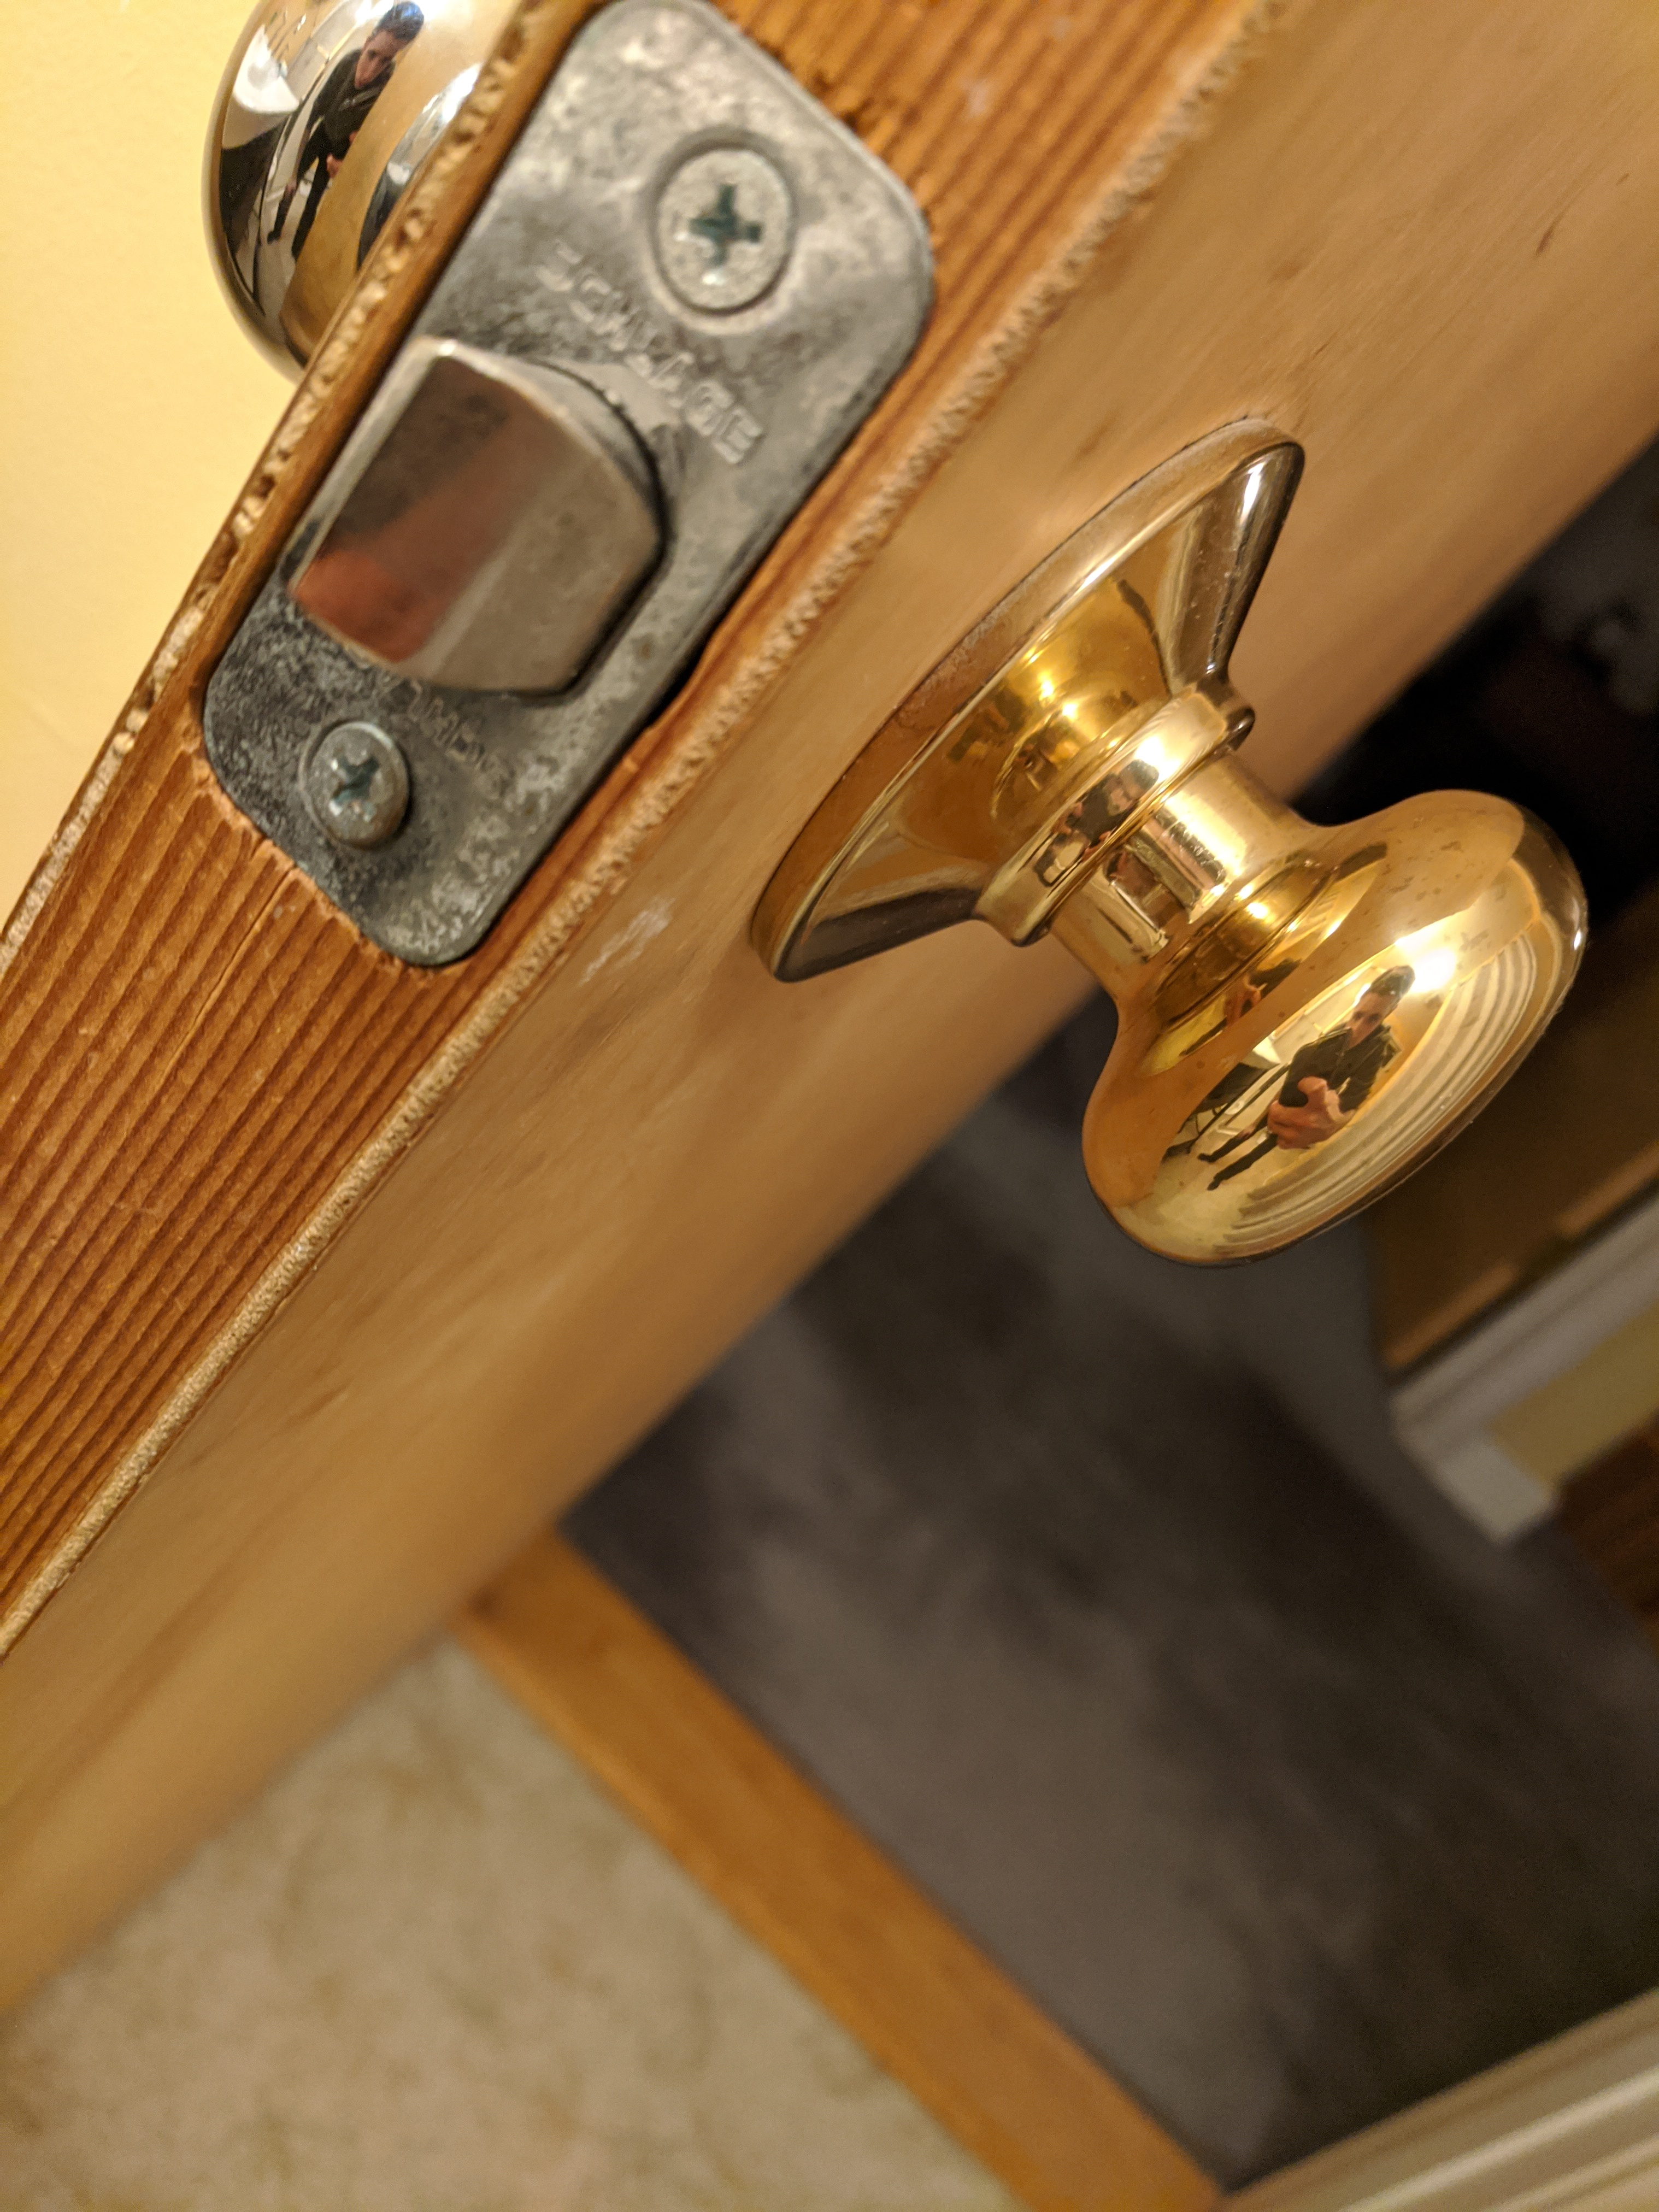cross_recessed_screw: (641, 120, 810, 329), (286, 705, 406, 853)
